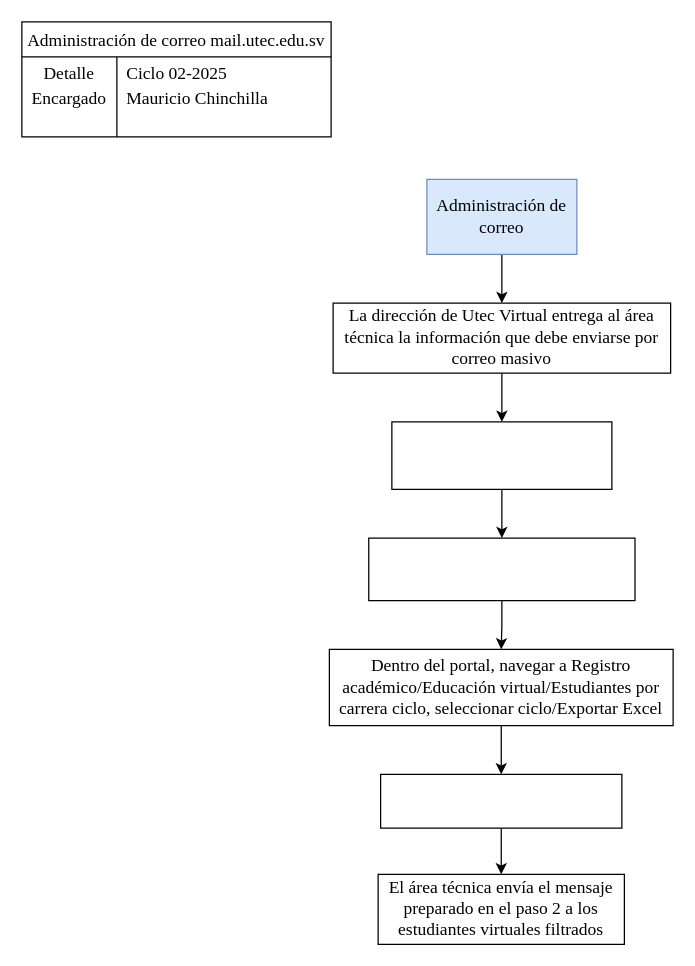
This 695x966 diagram has some shape labels left out. The centre of each missing label's shape, as x and y in pixels:
"Con credenciales de administrador, el área técnica accede al portal empresarial" goes at pixel 501 569.
"El área técnica prepara el documento con la información recibida" goes at pixel 501 455.
"En Excel, filtra únicamente los registros de estudiantes virtuales" goes at pixel 500 800.
